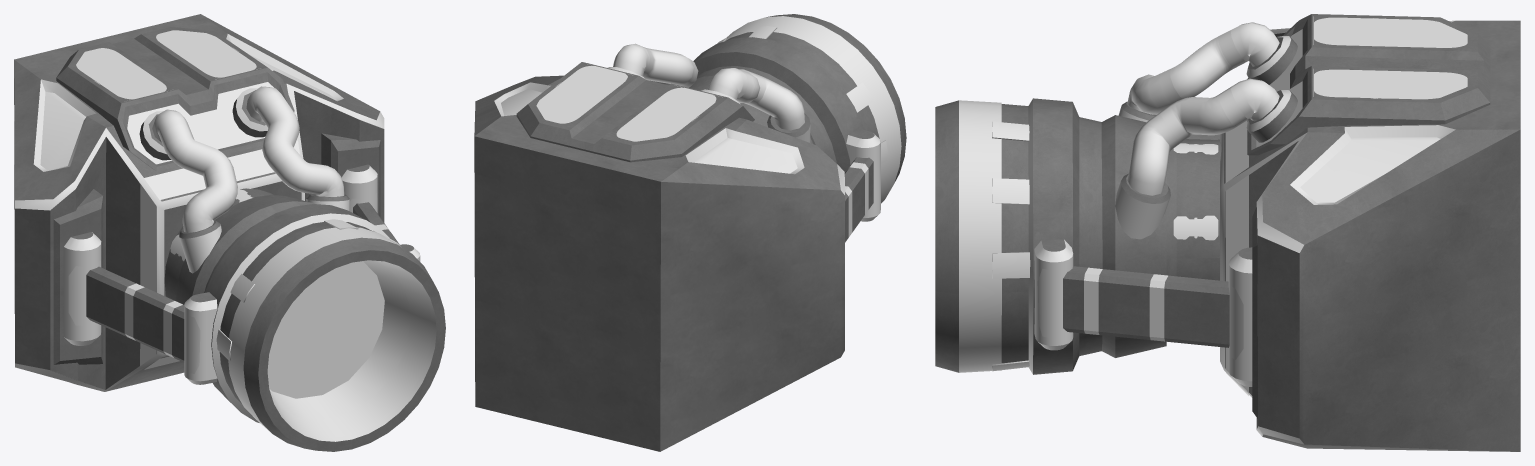
The model's file is SM_Module_Engine_Hex1.fbx.
3 views of the same model, side by side, from view 1: azimuth 30°, elevation 25°; view 2: azimuth 150°, elevation 25°; view 3: azimuth 270°, elevation 25° (orthographic). The views are drawn at different scales.
Visible parts, largest first — view 1: SM_Module_Engine_Hex1; view 2: SM_Module_Engine_Hex1; view 3: SM_Module_Engine_Hex1.
Part boxes in pixels (box(x1,y1,x2,y2)): SM_Module_Engine_Hex1: box(14, 14, 445, 451); SM_Module_Engine_Hex1: box(474, 14, 906, 451); SM_Module_Engine_Hex1: box(935, 14, 1520, 451).
Size of the model in its own units: 4 by 4.59 by 3.
